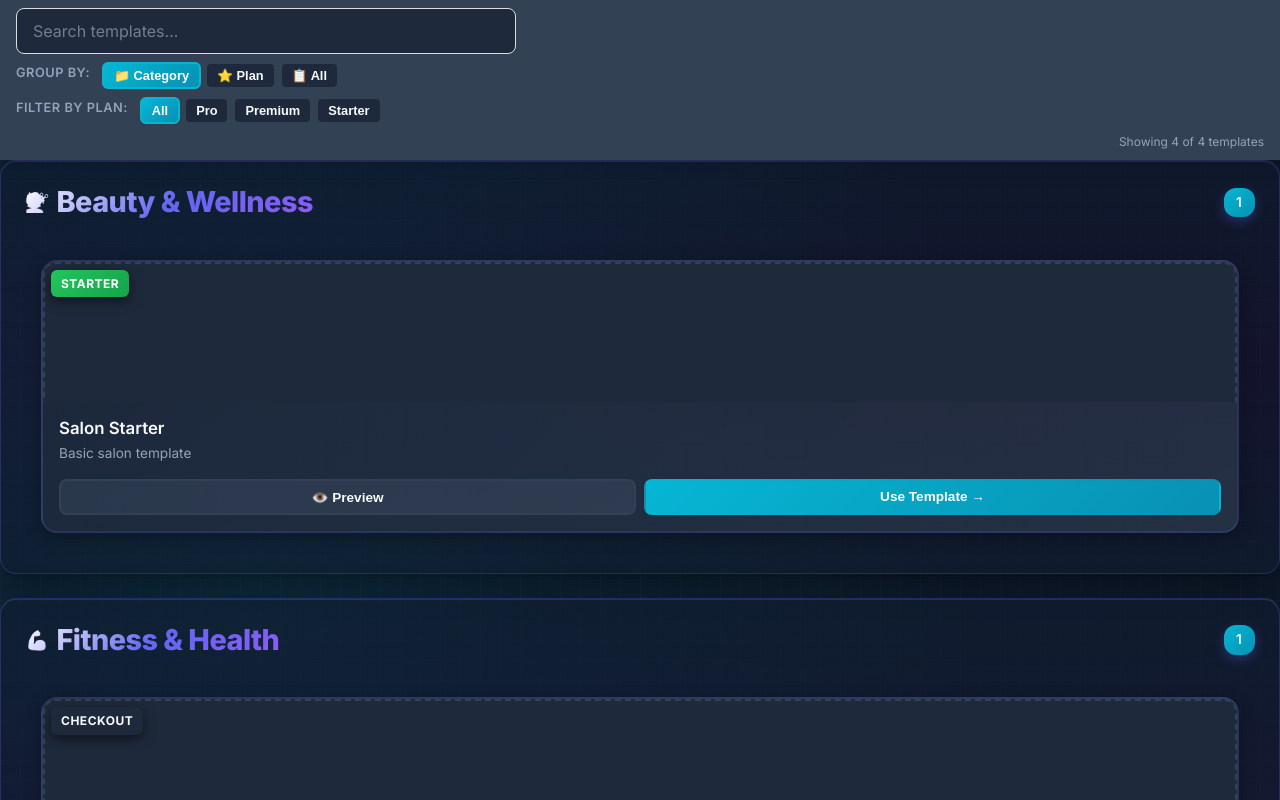
Test: TemplateGrid Component › Empty States › should show no results message
The width and height of the screenshot is (1280, 800).
Type "nonexistent" into the field with placeholder "Search templates..." at (266, 31), box [16, 8, 516, 54]
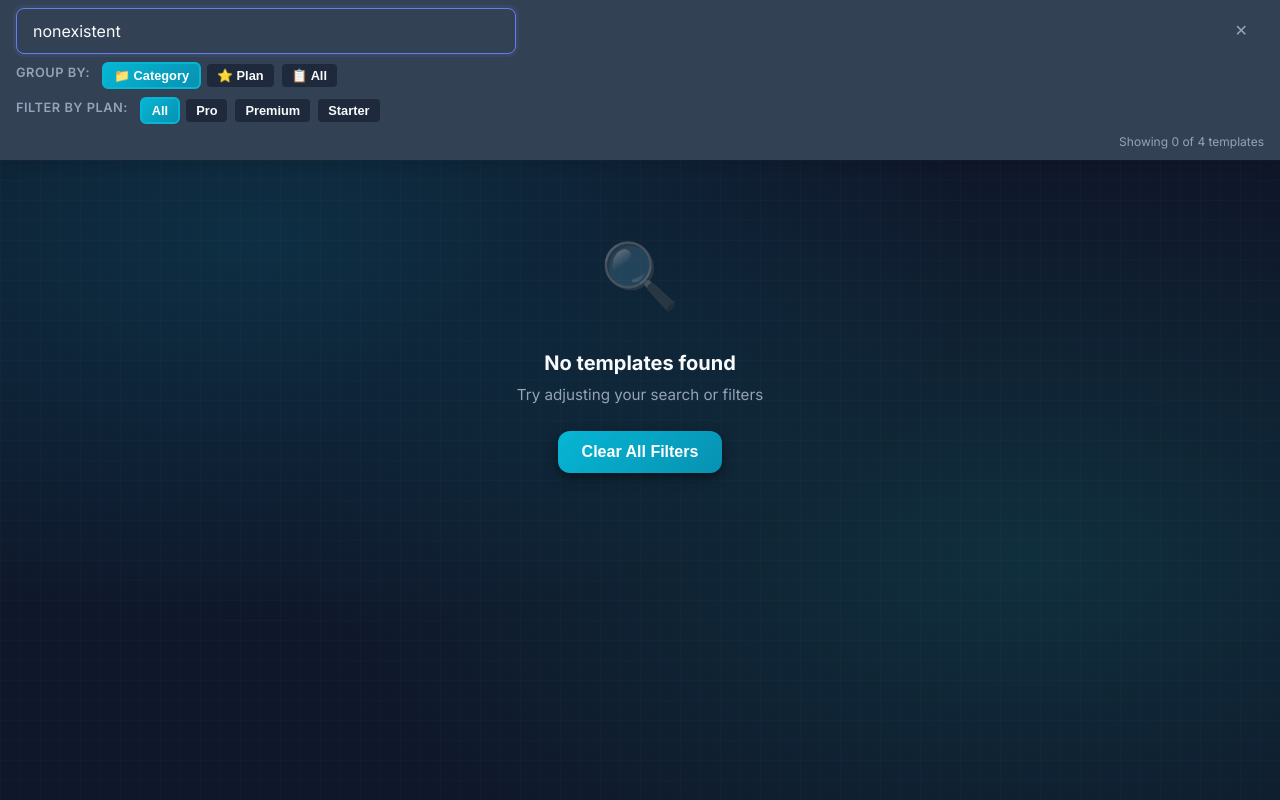
expect the heading "No templates found" is shown: met, box [544, 351, 736, 375]
expect the text "Try adjusting your search or filters" is shown: met, box [517, 385, 763, 404]
